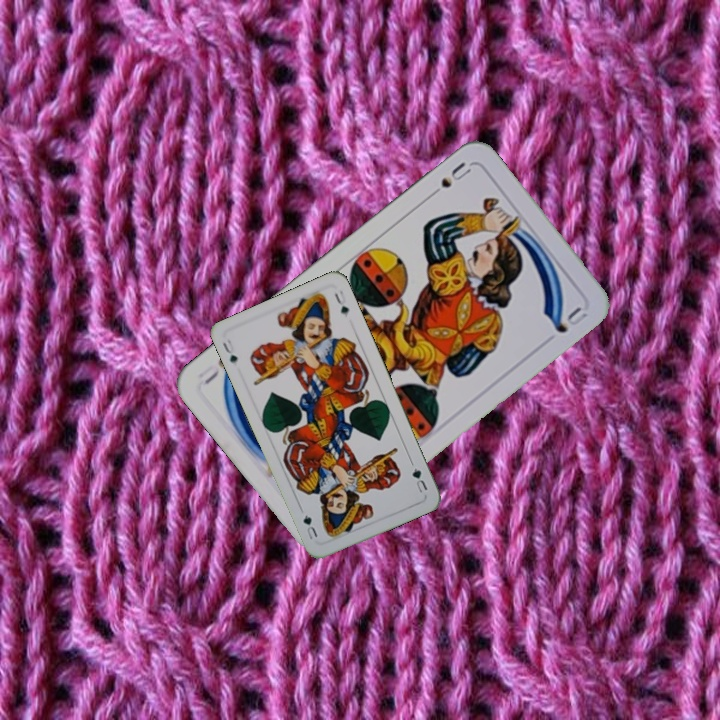GU: (408, 464, 430, 495), (219, 335, 240, 366)
SU: (423, 157, 474, 202)
